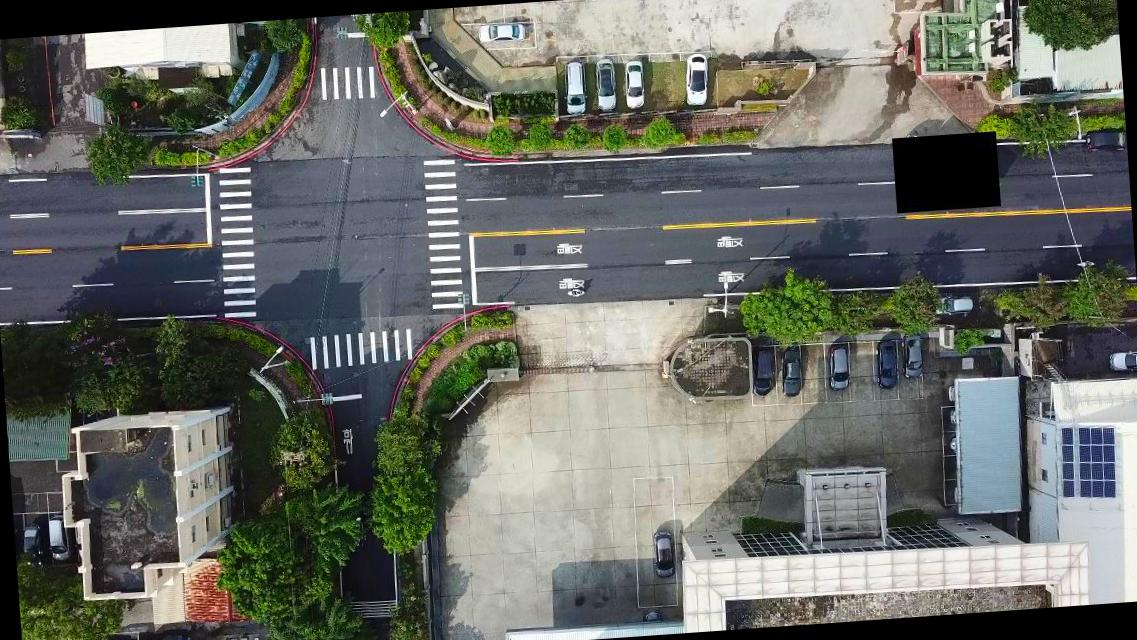vehicle: (682, 53, 709, 108), (592, 58, 618, 114), (342, 500, 370, 552), (872, 339, 900, 390), (750, 345, 776, 398), (562, 59, 586, 114), (621, 59, 646, 110), (900, 332, 925, 381), (781, 346, 804, 397), (46, 514, 70, 562), (826, 342, 849, 392), (1085, 126, 1126, 154), (476, 22, 528, 44), (20, 522, 43, 568), (651, 530, 673, 578), (933, 292, 974, 316), (1106, 348, 1136, 375), (642, 610, 660, 622)
